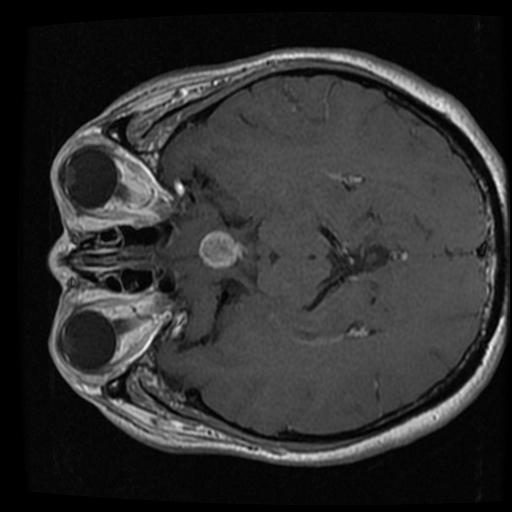pituitary tumour: (197, 231, 245, 268)
